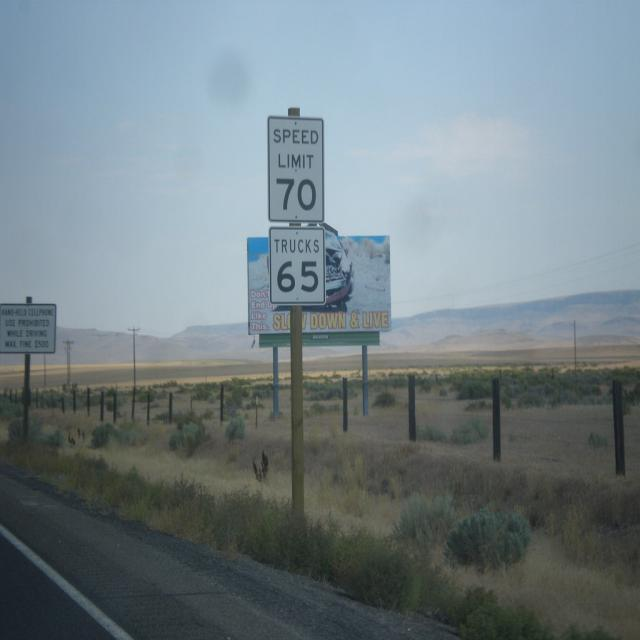speedLimit70: (268, 111, 328, 301)
